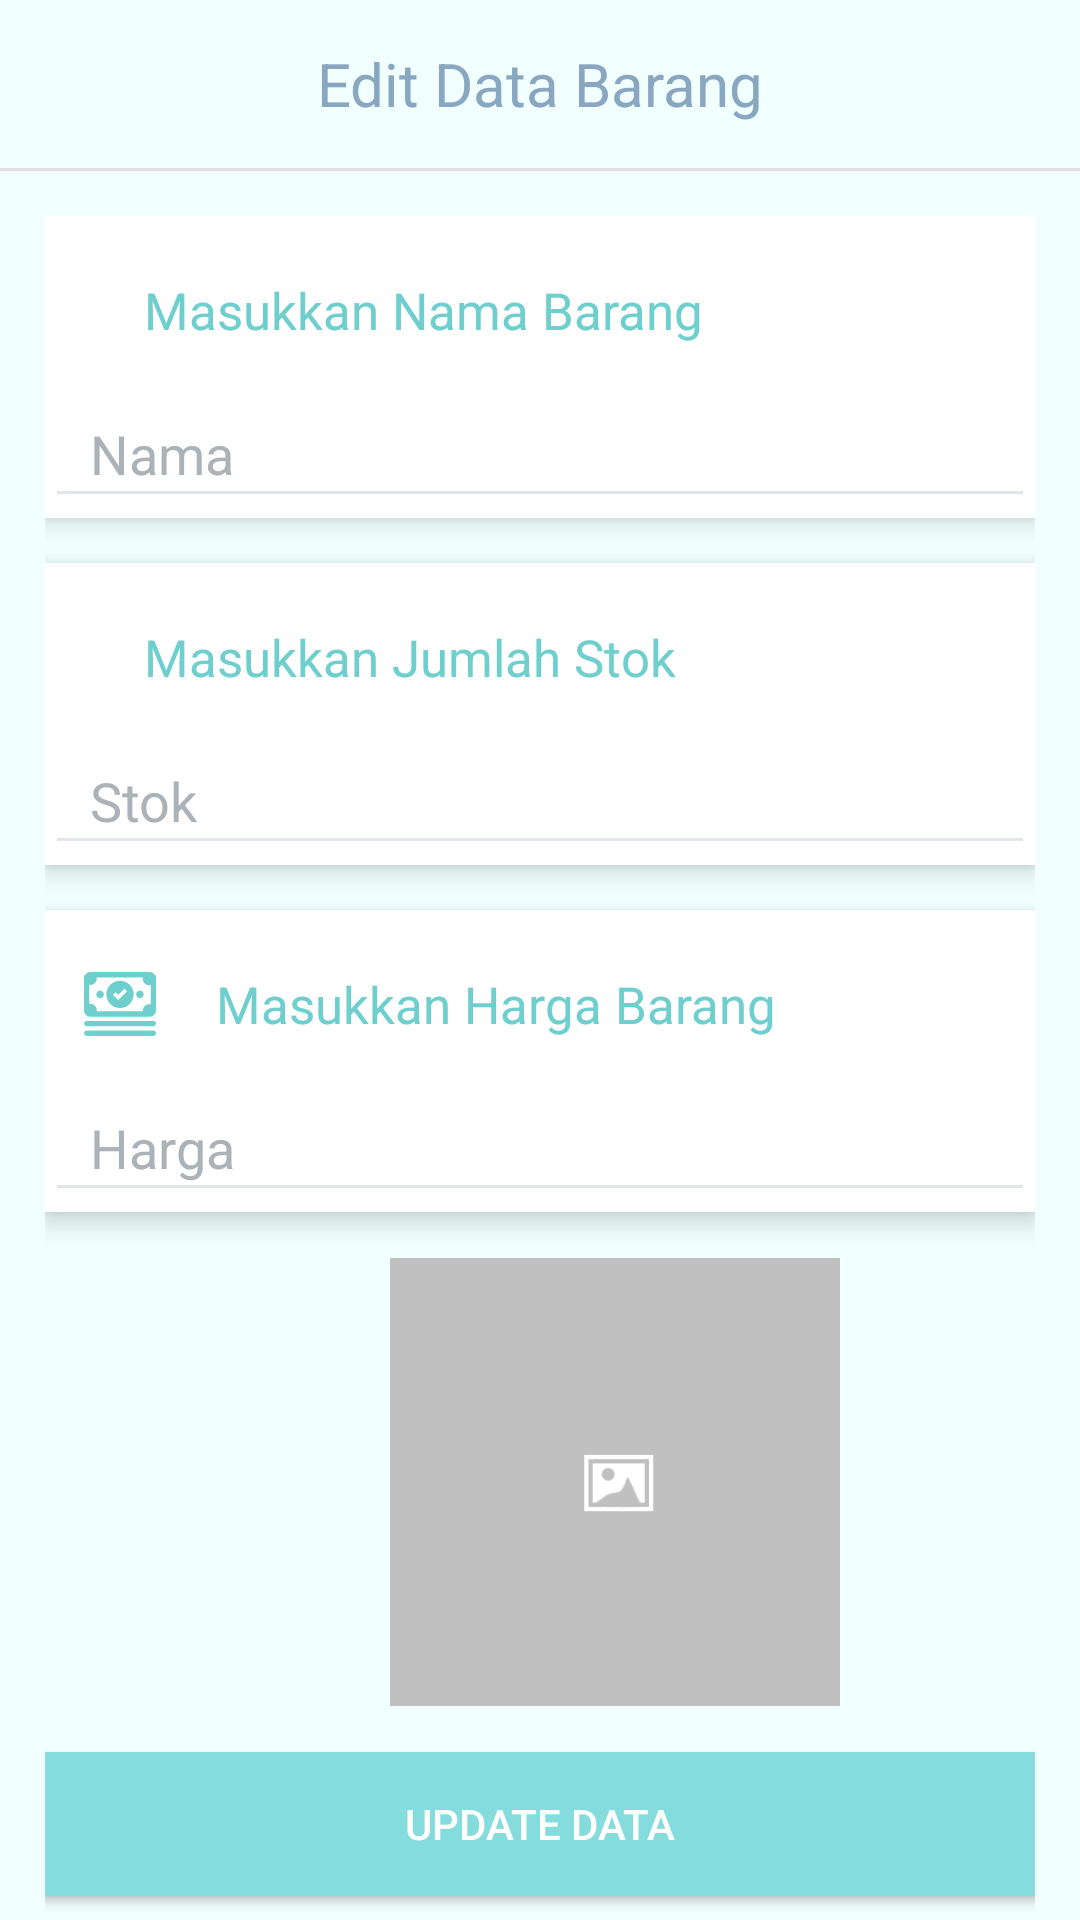

Point at icon controls on the screen. Image size 1080*1920, points as (x=x, y=y).
money: (x=120, y=1004)
